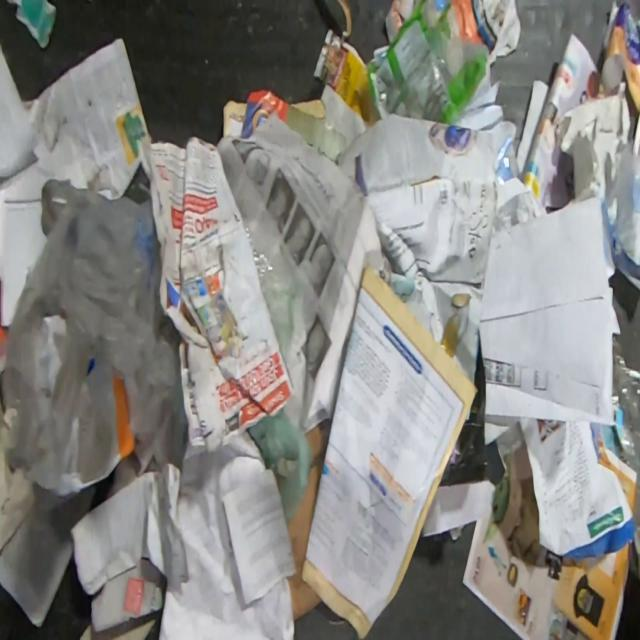cardboard: (69, 429, 296, 639), (553, 81, 640, 293), (287, 423, 331, 622)
soft_plastic: (0, 177, 189, 499), (367, 0, 490, 124), (612, 333, 640, 528), (244, 226, 275, 290)
